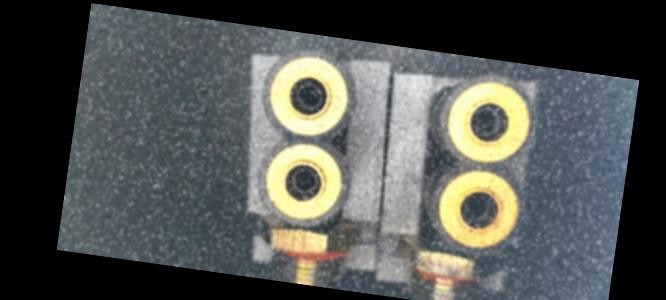off-centered: (288, 76, 330, 118), (467, 103, 508, 140)
